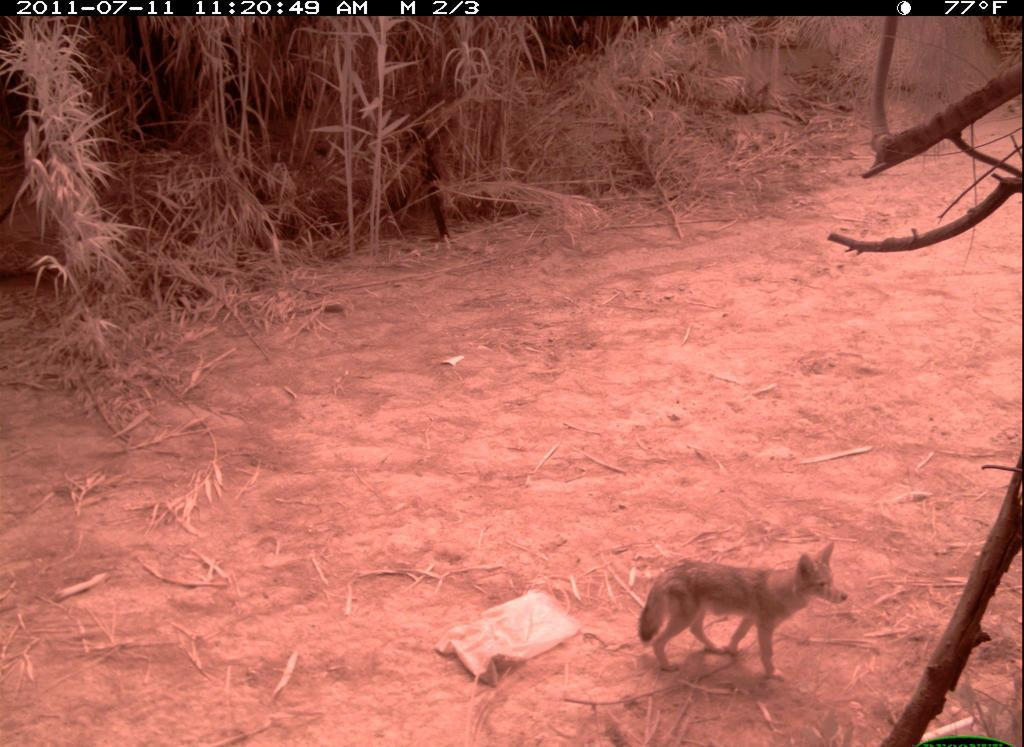coyote: (625, 536, 862, 692)
